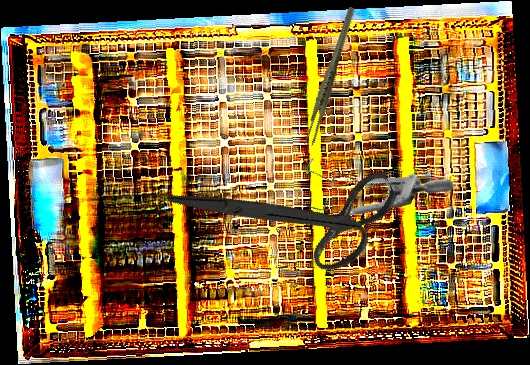Iris Scissors: (164, 99, 415, 326)
Speculum: (280, 102, 456, 264)
Tissue Forceps: (281, 5, 380, 149)
